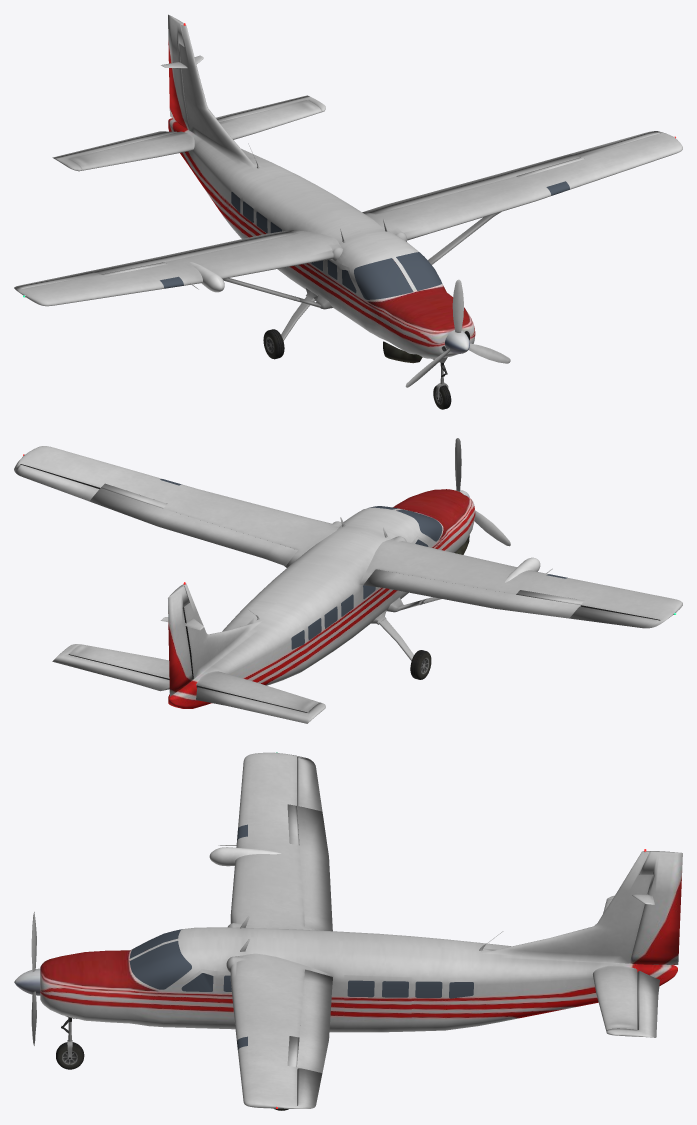
File: cessna.glb
3 renders of one model, top to bottom at view 1: azimuth 30°, elevation 25°; view 2: azimuth 150°, elevation 25°; view 3: azimuth 270°, elevation 25°, orthographic. The views are drawn at different scales.
Parts seen in each view (by area): view 1: body, propeller, flap_left, rudder, elevator, flap_right, aileron_left, aileron_right; view 2: body, flap_left, flap_right, elevator, rudder, aileron_left, aileron_right, propeller; view 3: body, rudder, flap_right, flap_left, elevator, aileron_right, aileron_left, propeller.
Boxes of the visible parts, left/top/right/bottom form: body: left=14, top=23, right=682, bottom=409; propeller: left=405, top=279, right=510, bottom=387; flap_left: left=364, top=154, right=580, bottom=214; rudder: left=168, top=14, right=189, bottom=129; elevator: left=52, top=95, right=325, bottom=171; flap_right: left=89, top=231, right=297, bottom=274; aileron_left: left=516, top=131, right=659, bottom=177; aileron_right: left=14, top=262, right=167, bottom=289; body: left=14, top=446, right=682, bottom=712; flap_left: left=89, top=488, right=297, bottom=565; flap_right: left=363, top=569, right=580, bottom=618; elevator: left=52, top=644, right=325, bottom=723; rudder: left=168, top=586, right=192, bottom=696; aileron_left: left=14, top=464, right=166, bottom=508; aileron_right: left=516, top=590, right=659, bottom=628; propeller: left=455, top=438, right=510, bottom=546; body: left=40, top=752, right=677, bottom=1110; rudder: left=630, top=851, right=682, bottom=964; flap_right: left=297, top=806, right=332, bottom=931; flap_left: left=297, top=969, right=332, bottom=1072; elevator: left=606, top=895, right=659, bottom=1037; aileron_right: left=287, top=757, right=322, bottom=845; aileron_left: left=287, top=1036, right=322, bottom=1108; propeller: left=14, top=912, right=40, bottom=1045.
Bounding box in the file's own units: 15.85 × 4.58 × 12.6.
4 materials, 1 textured.
